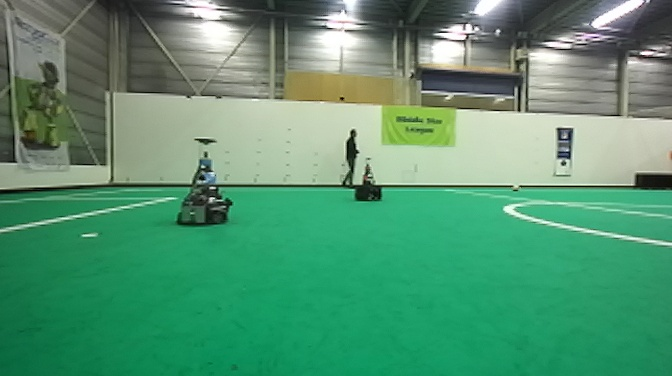ball: (509, 181, 523, 194)
human: (340, 125, 361, 189)
robot: (173, 134, 234, 228), (353, 154, 385, 204)
